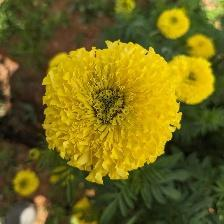marigold: (40, 46, 184, 184)
